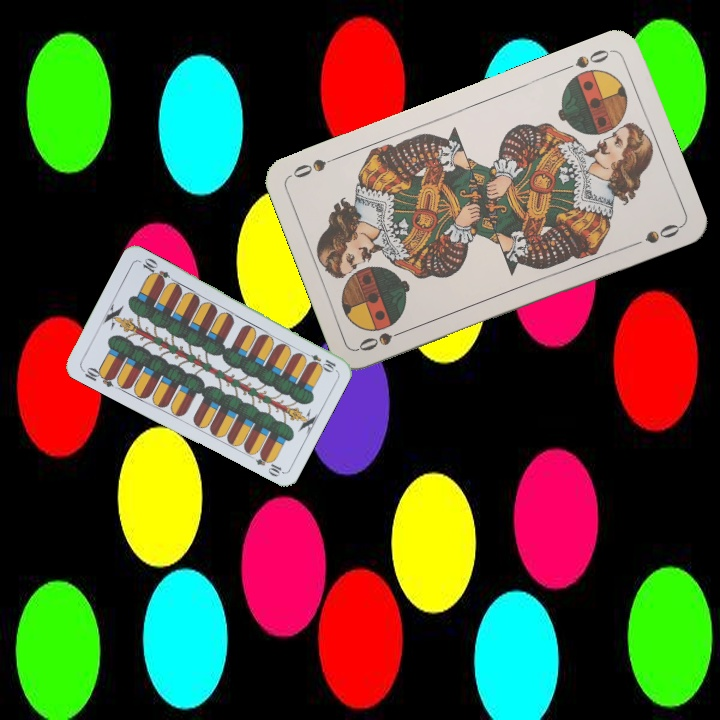E10: (78, 363, 118, 390), (299, 348, 338, 374)
SO: (354, 324, 412, 354), (558, 45, 615, 74)
